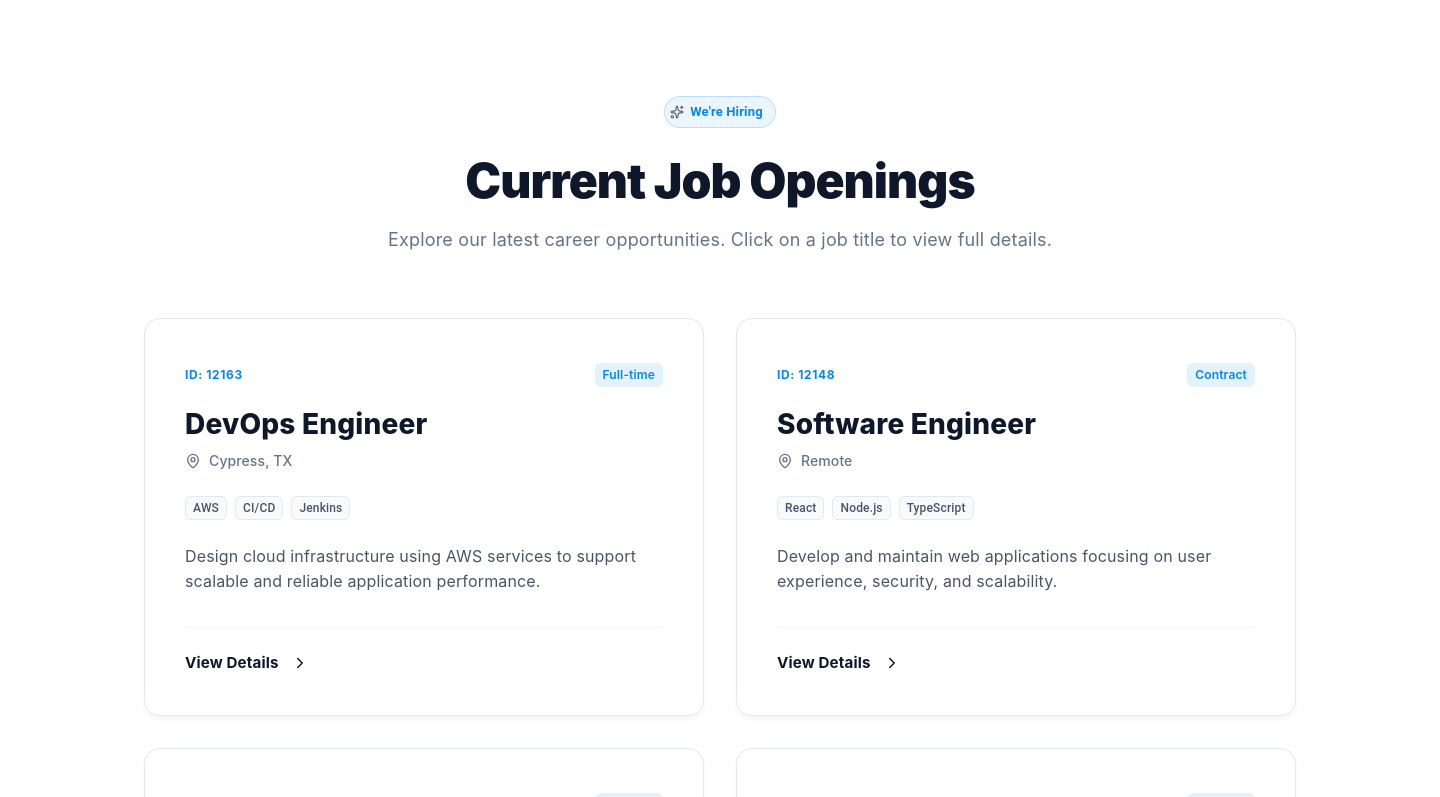
Test: JobOpeningsSection Component › switches to Contact / Apply page when clicking Apply Now
What coordinates should you click on to do the following:
click the heading "DevOps Engineer"
I would click on:
 (306, 424)
Its box is [185, 407, 427, 441].
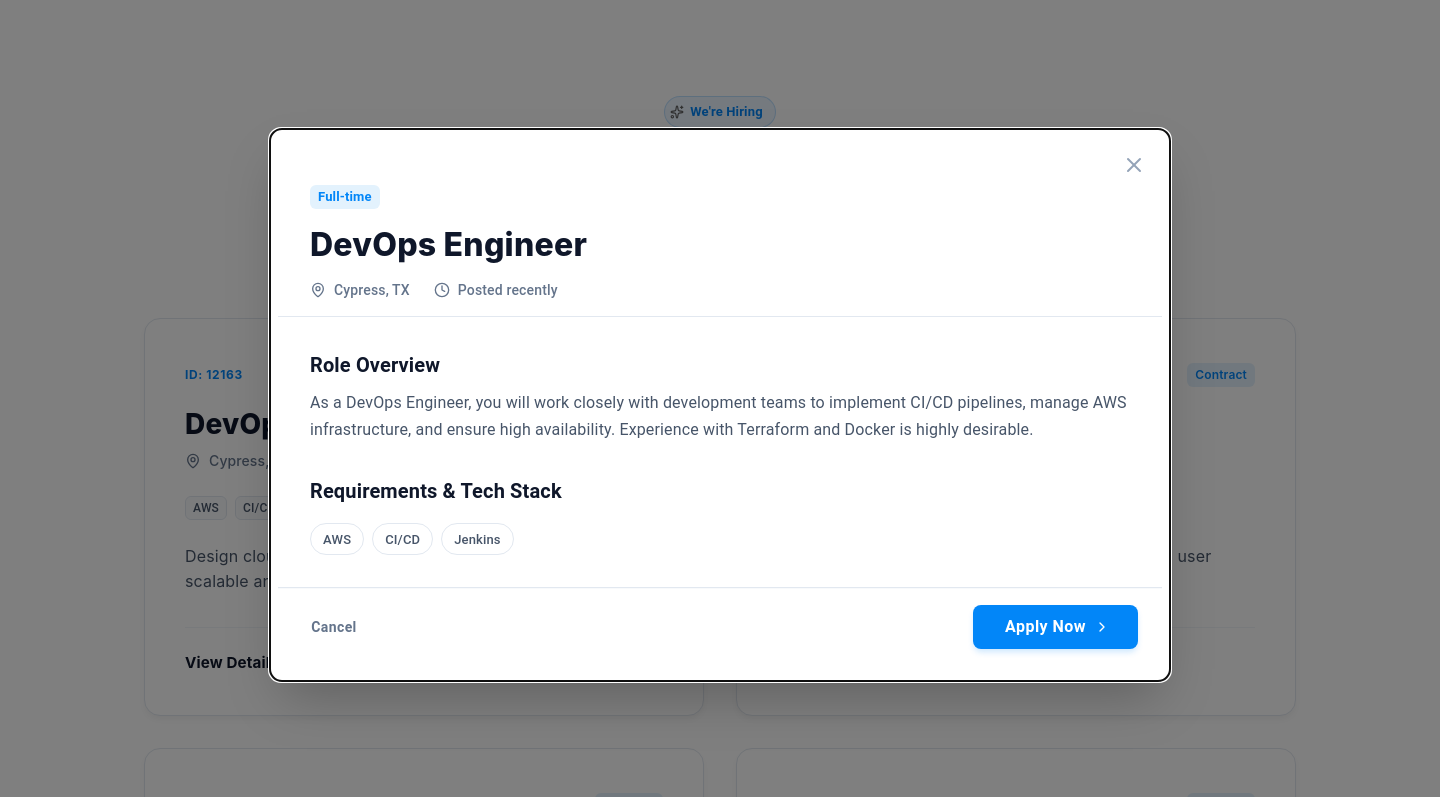
What coordinates should you click on to do the following:
click the button "Apply Now"
I would click on:
 (1056, 628)
Its box is [973, 606, 1138, 650].
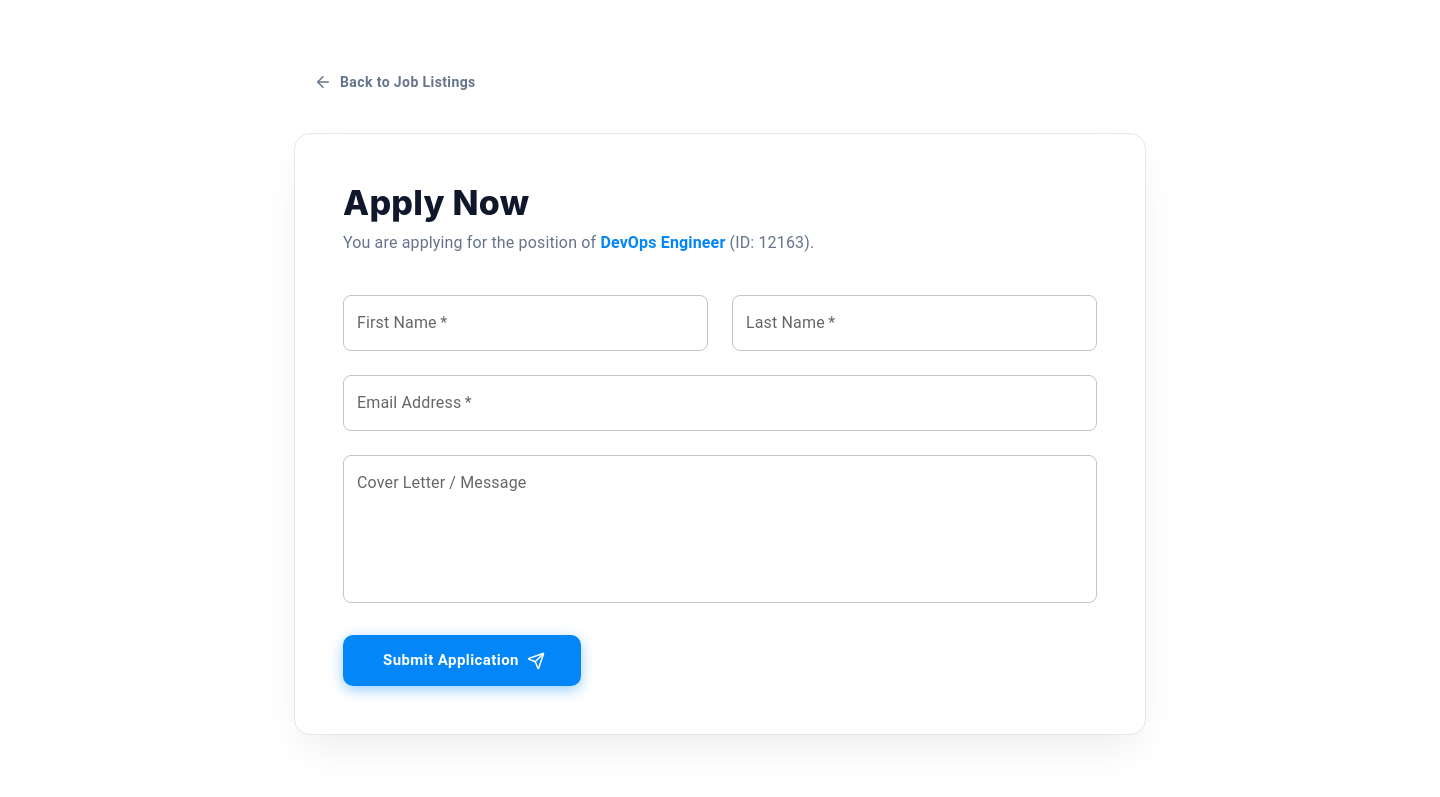
Expected: the heading "Apply Now" is shown, [343, 182, 529, 222]
Expected: the text "You are applying for the position" is shown, [343, 234, 596, 252]
